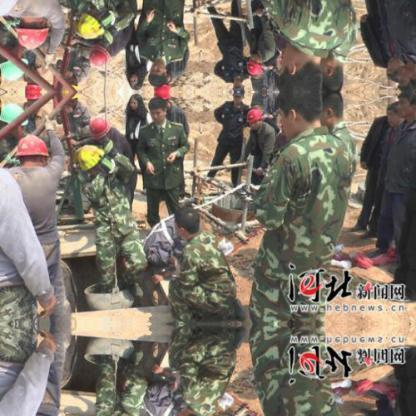helmet: (70, 142, 109, 173), (14, 132, 50, 161), (89, 116, 113, 141), (245, 107, 269, 128), (23, 89, 44, 100), (152, 91, 171, 102)
